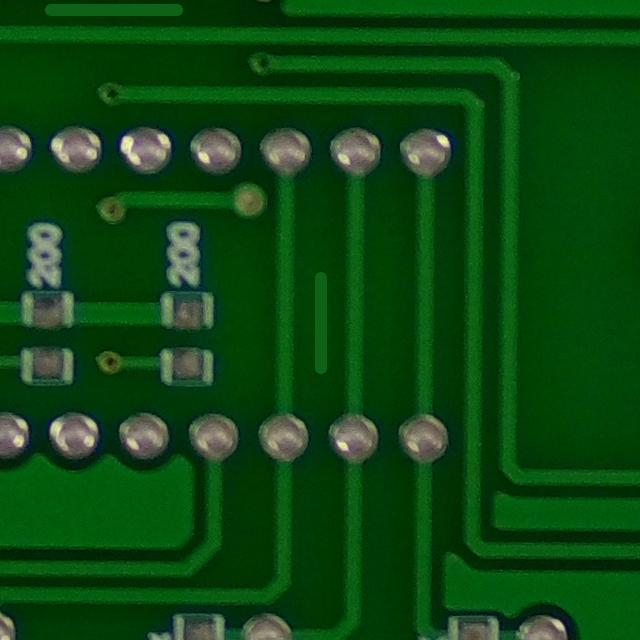spurious_copper: (288, 259, 353, 382)
